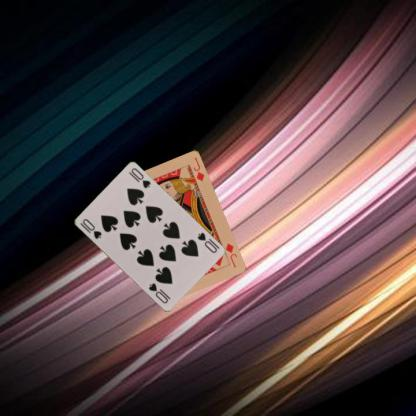10s: (80, 216, 103, 240), (195, 230, 218, 254)
Jd: (222, 240, 238, 269)
